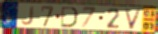2: (105, 8, 121, 30)
7: (81, 6, 98, 30), (40, 5, 55, 27)
D: (60, 5, 78, 28)
J: (20, 6, 36, 26)
V: (124, 8, 144, 31)
